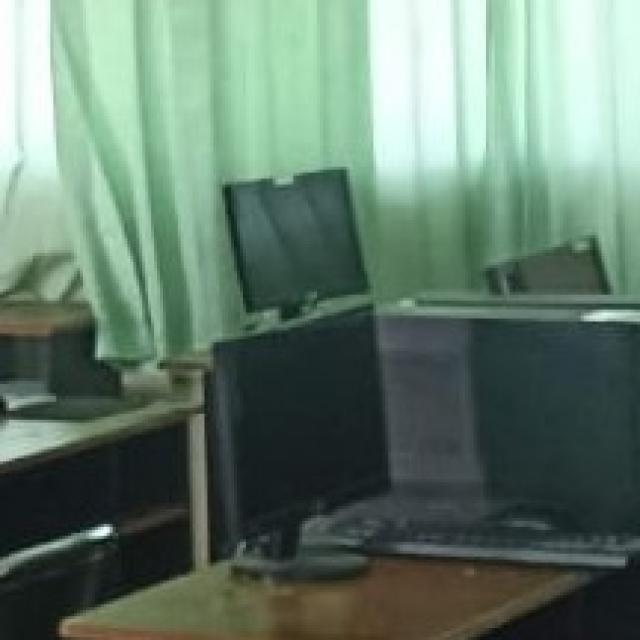offscreen: (221, 307, 393, 537), (230, 166, 370, 307)
